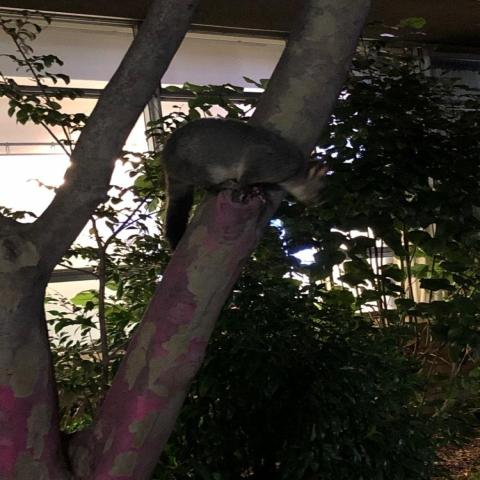small_animal: (158, 116, 332, 249)
